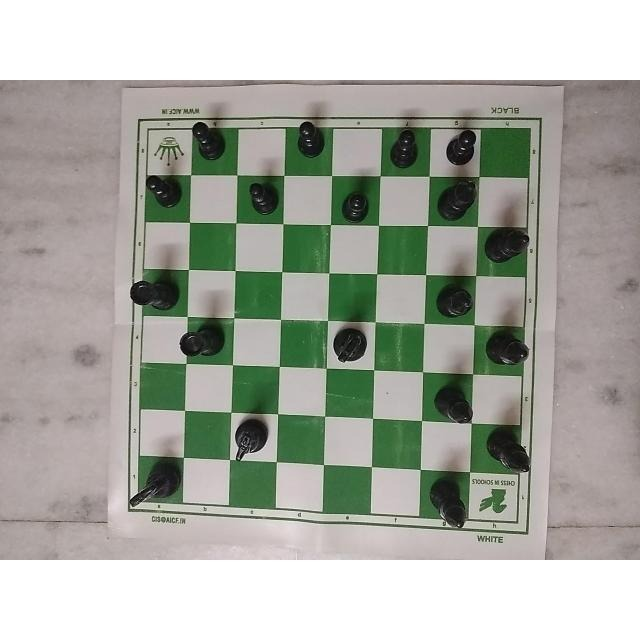black-bishop: (424, 473, 472, 539), (431, 173, 483, 223), (477, 327, 533, 372), (488, 430, 536, 480), (480, 228, 539, 268), (436, 383, 475, 430), (437, 285, 479, 321)
black-knight: (126, 461, 180, 511), (229, 417, 269, 466), (326, 322, 373, 362)
black-pawn: (138, 171, 187, 217), (291, 115, 330, 166), (387, 123, 421, 177), (334, 182, 374, 226), (241, 177, 282, 217), (188, 119, 224, 163), (446, 127, 479, 174)
black-rook: (128, 275, 184, 317), (174, 324, 225, 363)
